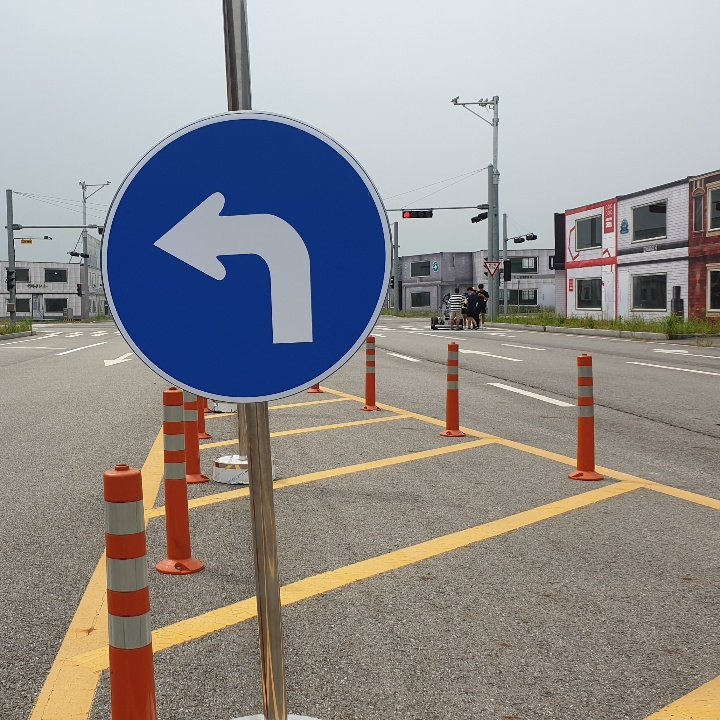left: (145, 181, 334, 361)
